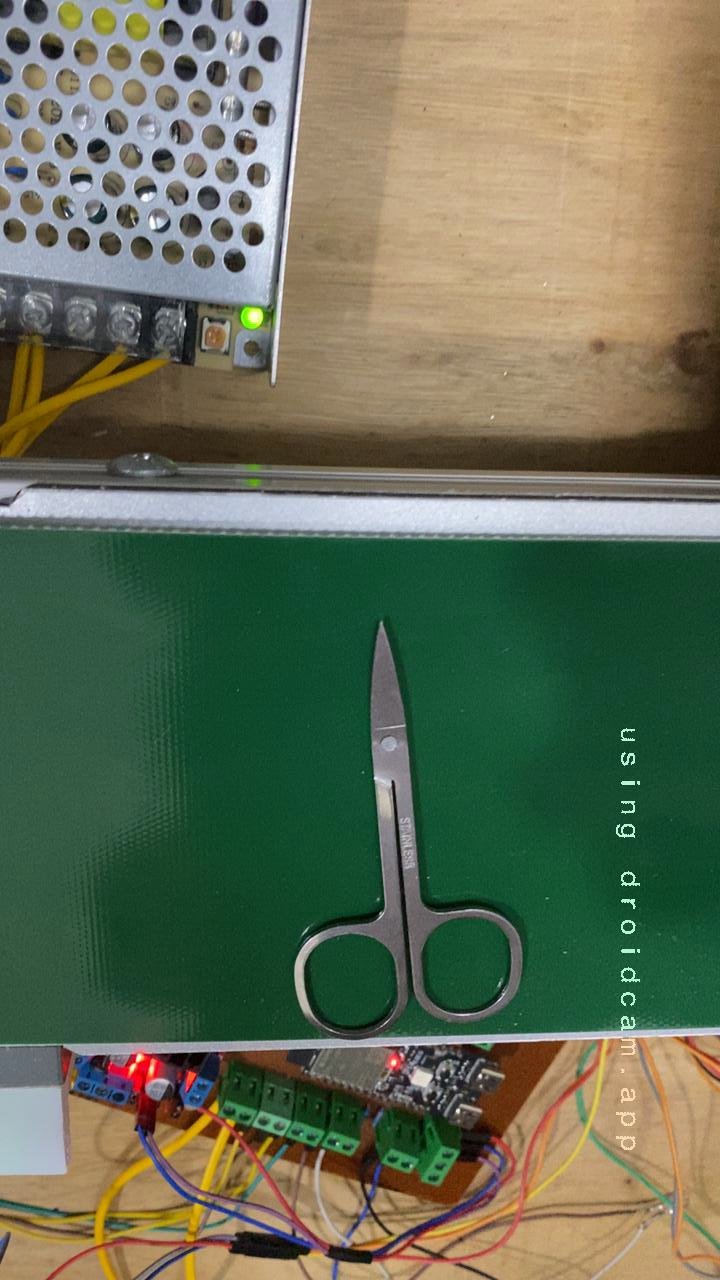scissor: (248, 599, 550, 1061)
